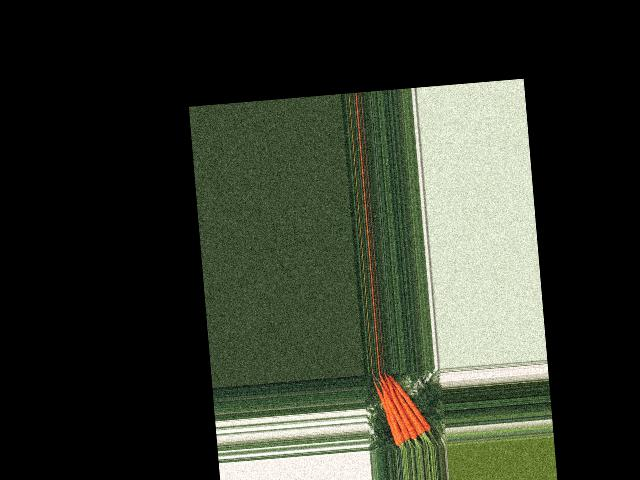carrot: (370, 375, 404, 449)
